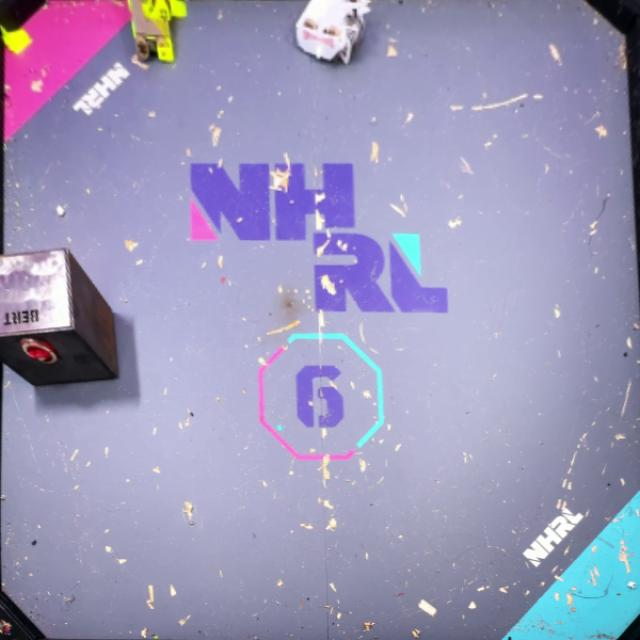housebot: (0, 244, 123, 390)
robot: (289, 0, 376, 67), (124, 0, 193, 64)
